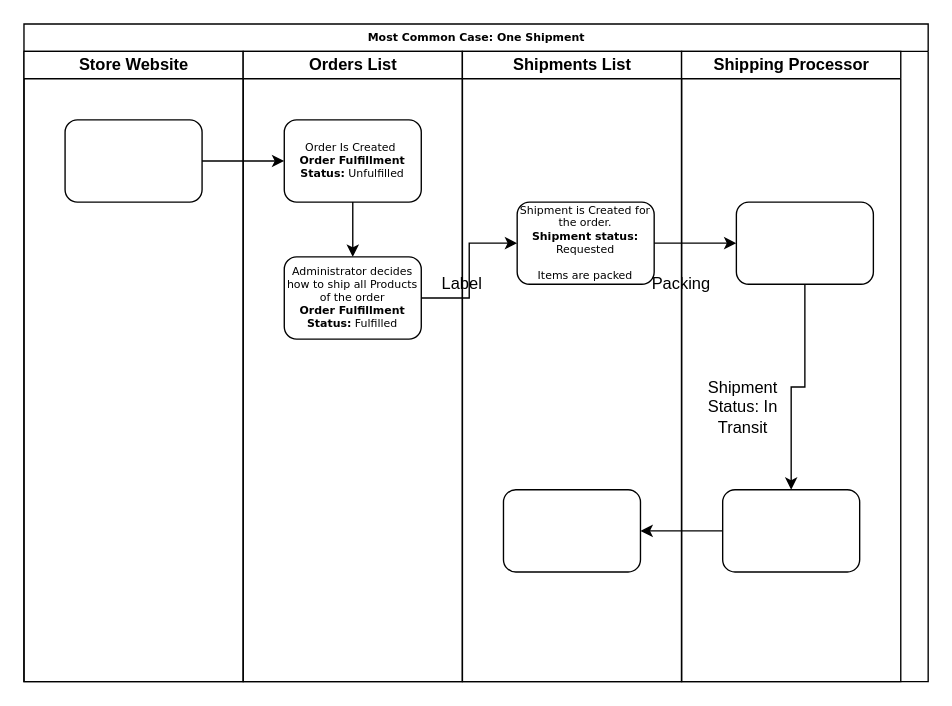
Image size: 952x706. Some labels were removed from this diagram. Each missing label, with the centre of its shape:
"Accepts Shipping Request" goes at (x=804, y=242).
"Customer Places Order" goes at (x=133, y=160).
"Delivers Shipment" goes at (x=790, y=530).
"Updates Shipment Status to delivered." goes at (x=571, y=530).
